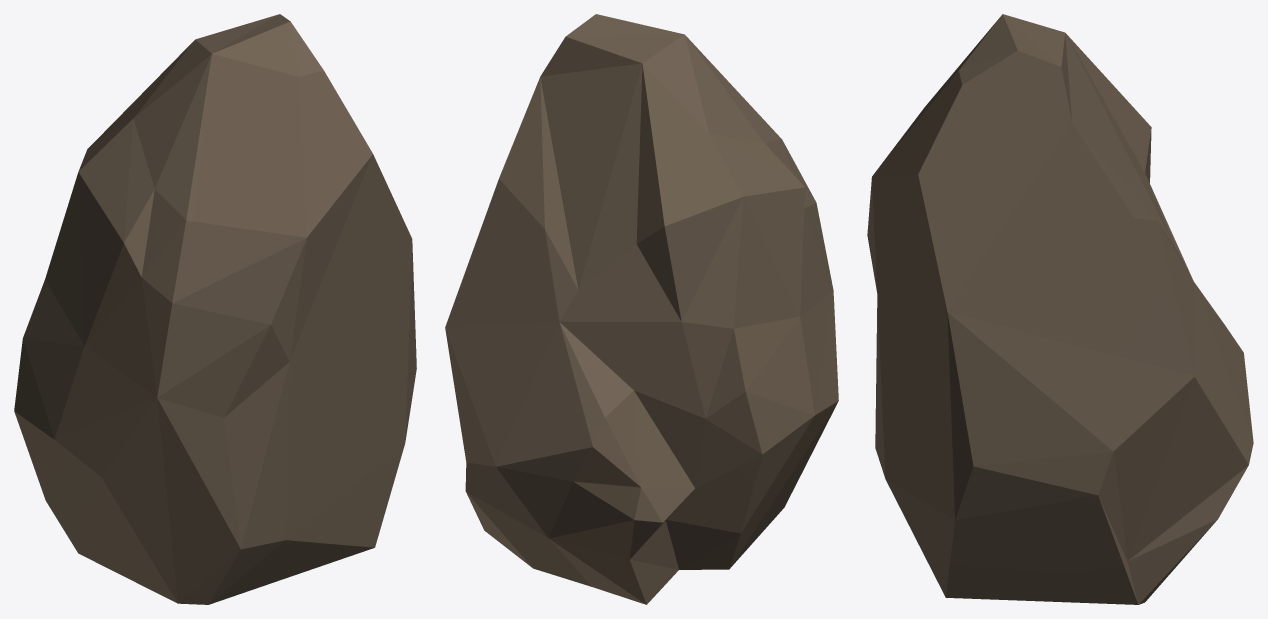
File: desert_SM_Env_Rock_Small_05.gltf
3 views of the same model, side by side, from view 1: azimuth 30°, elevation 25°; view 2: azimuth 150°, elevation 25°; view 3: azimuth 270°, elevation 25° (orthographic). The views are drawn at different scales.
Parts seen in each view (by area): view 1: SM_Env_Rock_Small_05; view 2: SM_Env_Rock_Small_05; view 3: SM_Env_Rock_Small_05.
Boxes of the visible parts, x1,y1,x2,y2 form: SM_Env_Rock_Small_05: (14,14,416,604); SM_Env_Rock_Small_05: (445,14,838,604); SM_Env_Rock_Small_05: (867,14,1253,604).
Bounding box in the file's own units: 1.23 × 1.9 × 1.2.
1 material, 1 textured.
